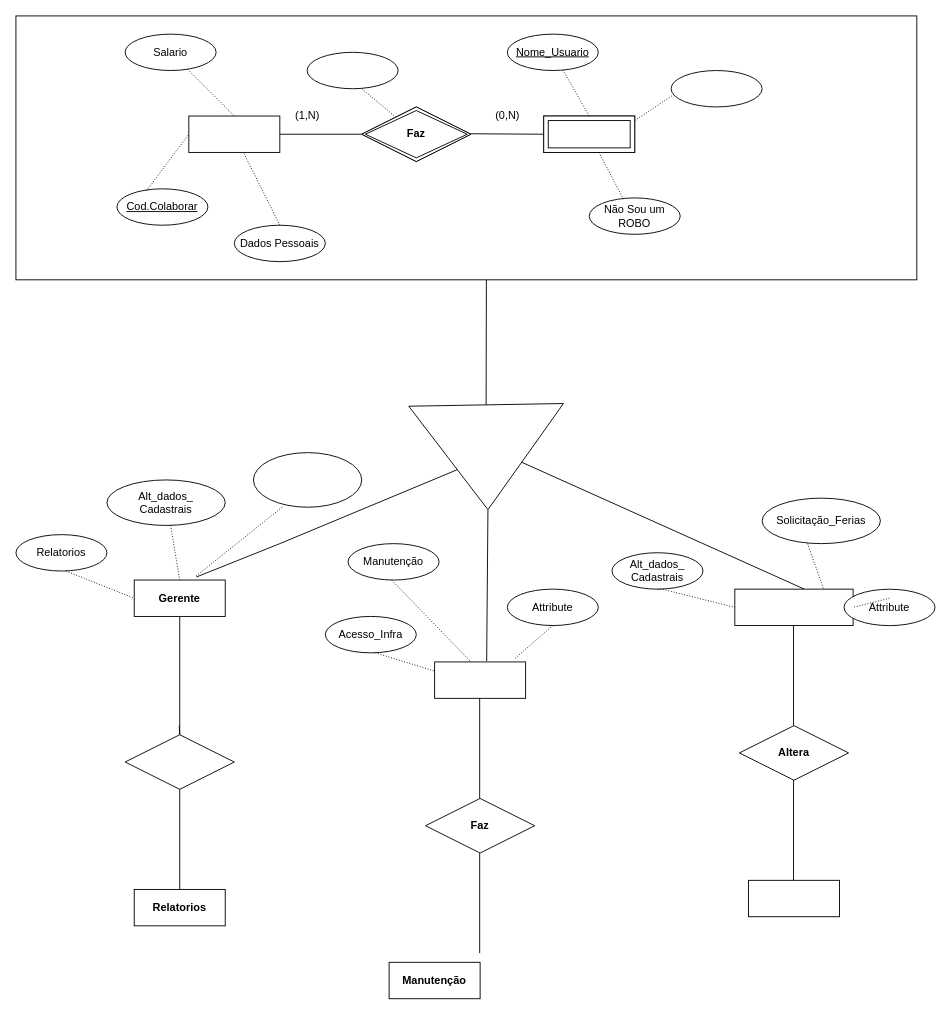
Image size: 951x1015. Some labels were removed from this diagram. The shapes that lost their labels are listed below. From the top down, each one's centre as x and y in pixels, then its label:
At pixel 352 70: "Data".
At pixel 716 88: "Senha".
At pixel 234 133: "Colaborador".
At pixel 589 133: "Login".
At pixel 486 457: "É UMA".
At pixel 307 479: "Acesso_Dados_ Pessoais".
At pixel 793 607: "Colaborador_Comum".
At pixel 480 679: "Administrador".
At pixel 179 761: "Gera".
At pixel 793 898: "Dados Cadastrais".
